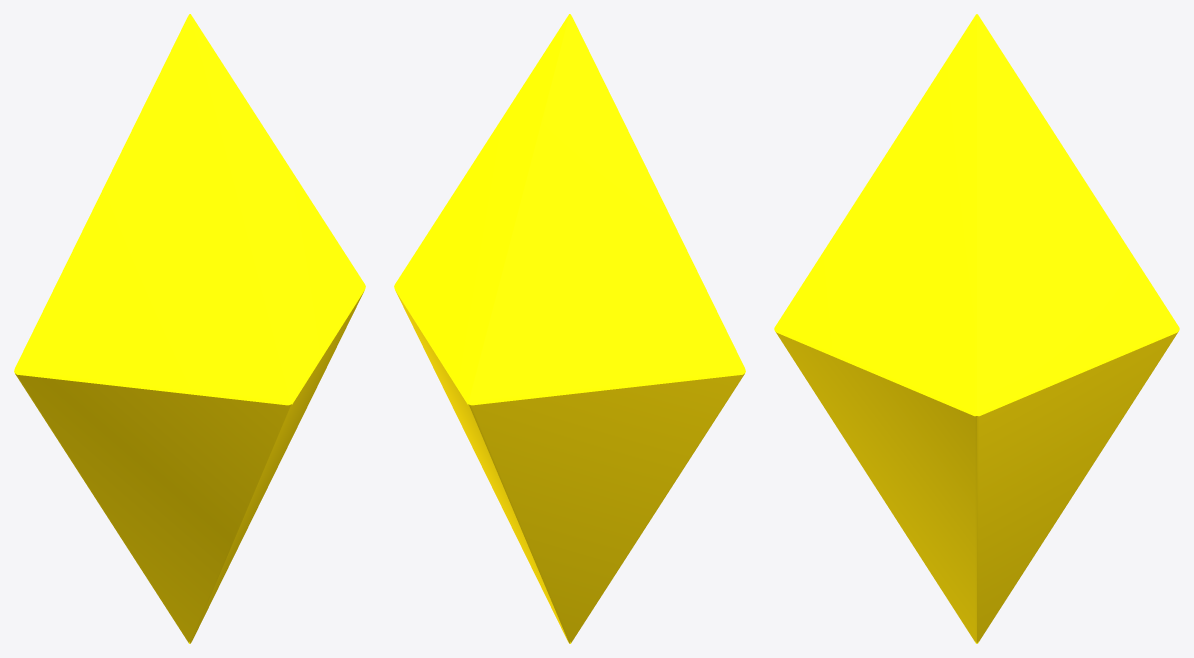
The model's file is Soft_Skills.FBX.
3 renders of one model, left to right at view 1: azimuth 30°, elevation 25°; view 2: azimuth 150°, elevation 25°; view 3: azimuth 270°, elevation 25°, orthographic.
Visible parts, largest first — view 1: Cone001; view 2: Cone001; view 3: Cone001.
Boxes of the visible parts, x1,y1,x2,y2 form: Cone001: [14, 14, 365, 643]; Cone001: [394, 14, 745, 643]; Cone001: [774, 14, 1179, 643].
Size of the model in its own units: 9.23 by 15.82 by 9.23.
